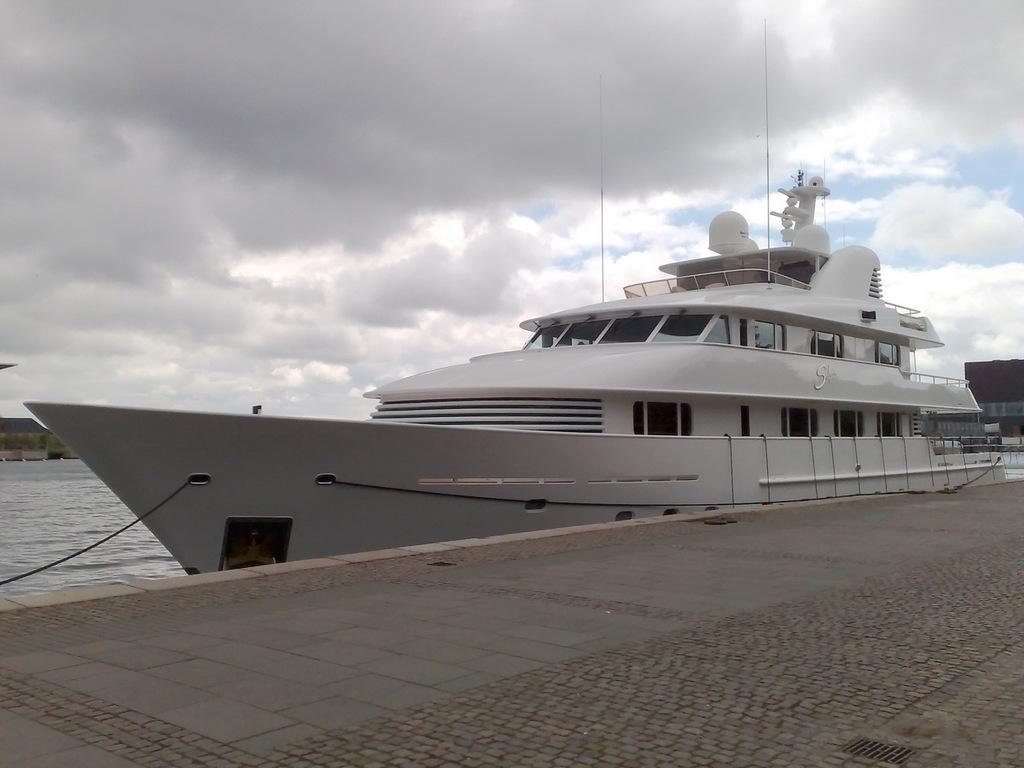PassengerShip: (8, 127, 1024, 587)
